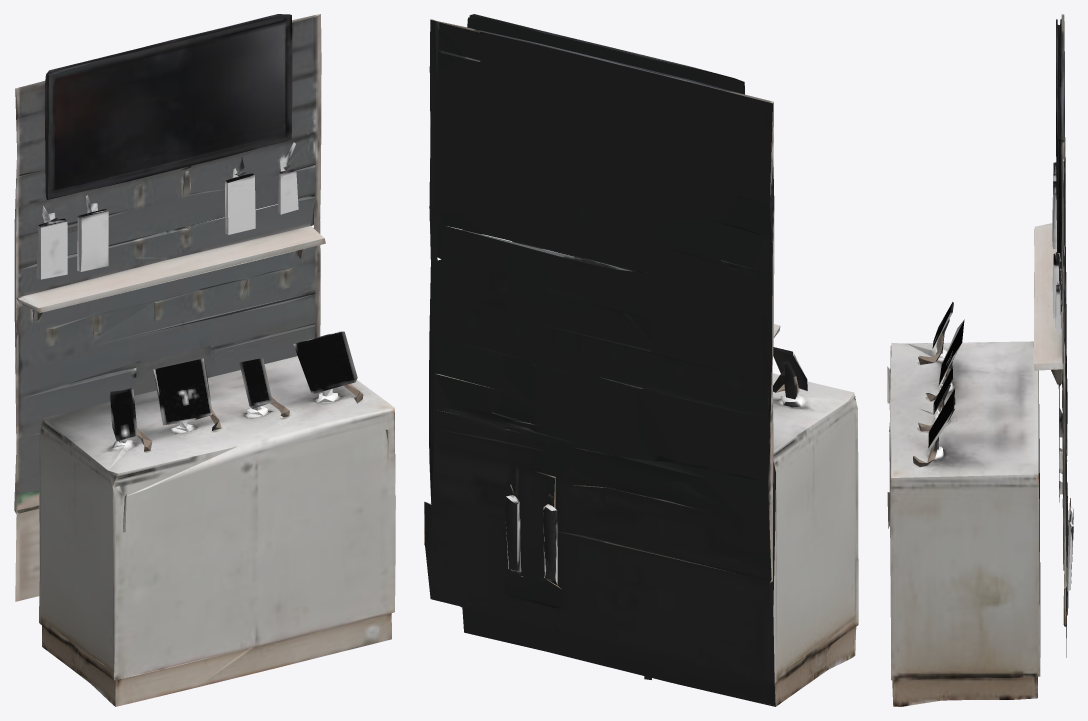
Rendered from tech-display.glb.
3 views of the same model, side by side, from view 1: azimuth 30°, elevation 25°; view 2: azimuth 150°, elevation 25°; view 3: azimuth 270°, elevation 25° (orthographic). The views are drawn at different scales.
Visible parts, largest first — view 1: techDisplay; view 2: techDisplay; view 3: techDisplay.
Boxes of the visible parts, bbox=[...] form: techDisplay: bbox=[14, 14, 395, 706]; techDisplay: bbox=[424, 14, 858, 706]; techDisplay: bbox=[887, 14, 1073, 706].
Size of the model in its own units: 1.1 by 2 by 0.5793.
1 material, 1 textured.
